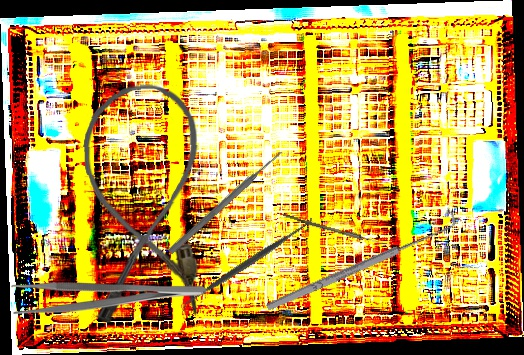Cannula: (81, 82, 204, 324)
Dressing Forceps: (10, 281, 208, 316)
Hook Surgical: (259, 209, 463, 316)
Pusher: (166, 148, 286, 256)
Spatula Surgical: (175, 213, 319, 315)
Surgical Spoon: (282, 213, 391, 248)
